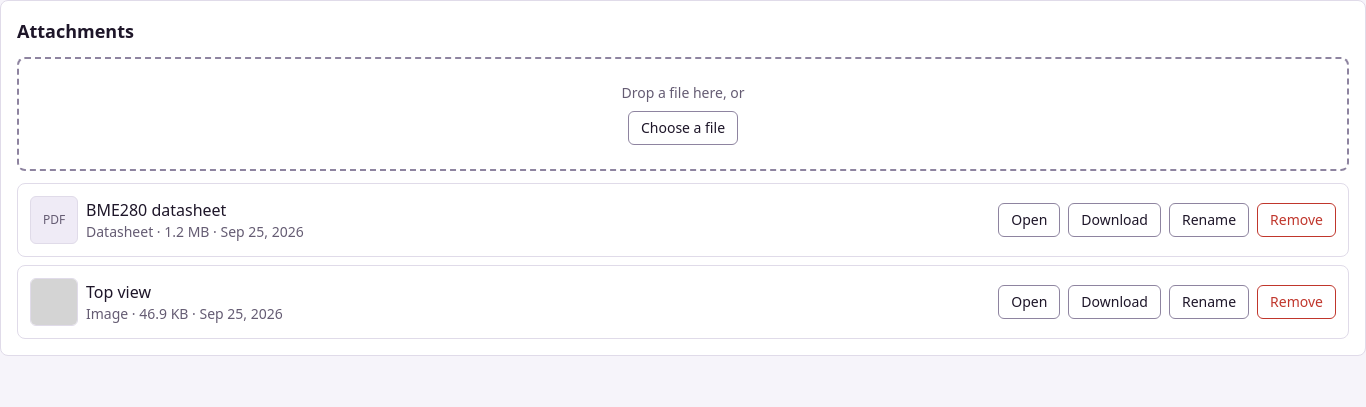
Test case: AttachmentsSection › says so when a removal is refused
The width and height of the screenshot is (1366, 407).
Click the button with aria-label "Remove BME280 datasheet": click(1297, 220) 1257,203 -> 1336,237
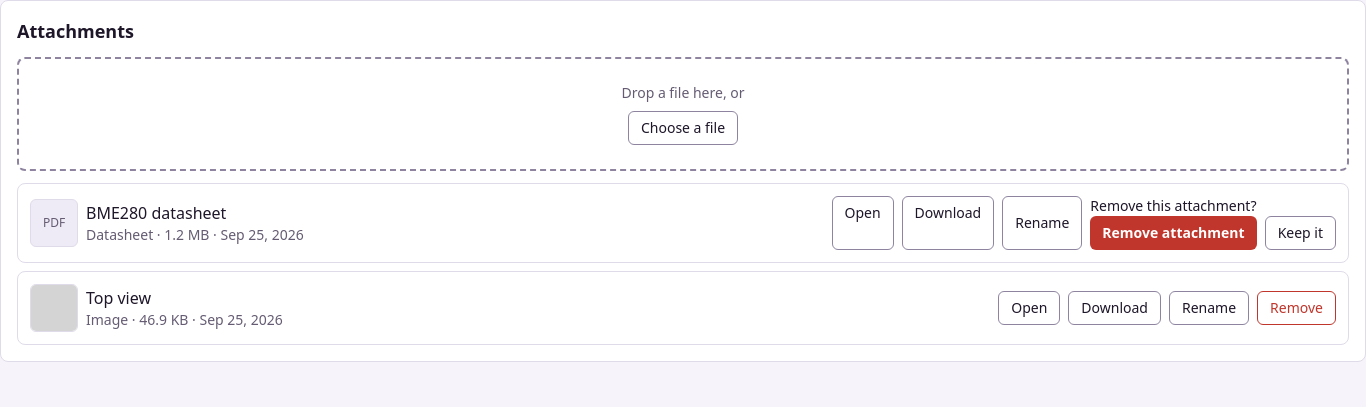
Click the button "Remove attachment": click(1173, 233) 1090,216 -> 1257,250
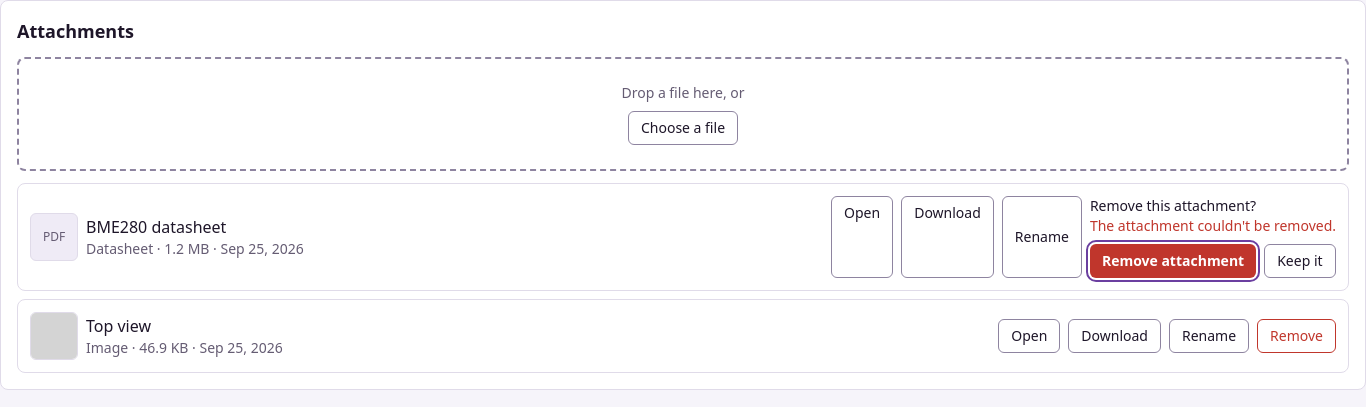
Expected: the message shows "couldn't be removed", 1090,216 -> 1336,235
